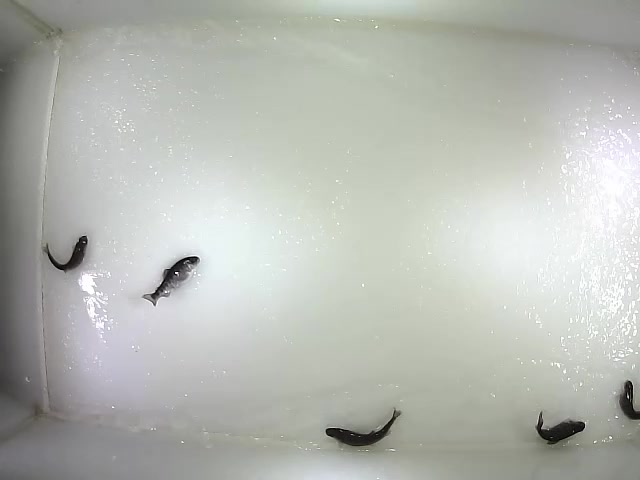fish: (324, 406, 404, 449), (140, 255, 201, 308), (534, 408, 588, 447), (41, 235, 89, 277), (618, 379, 640, 422)
